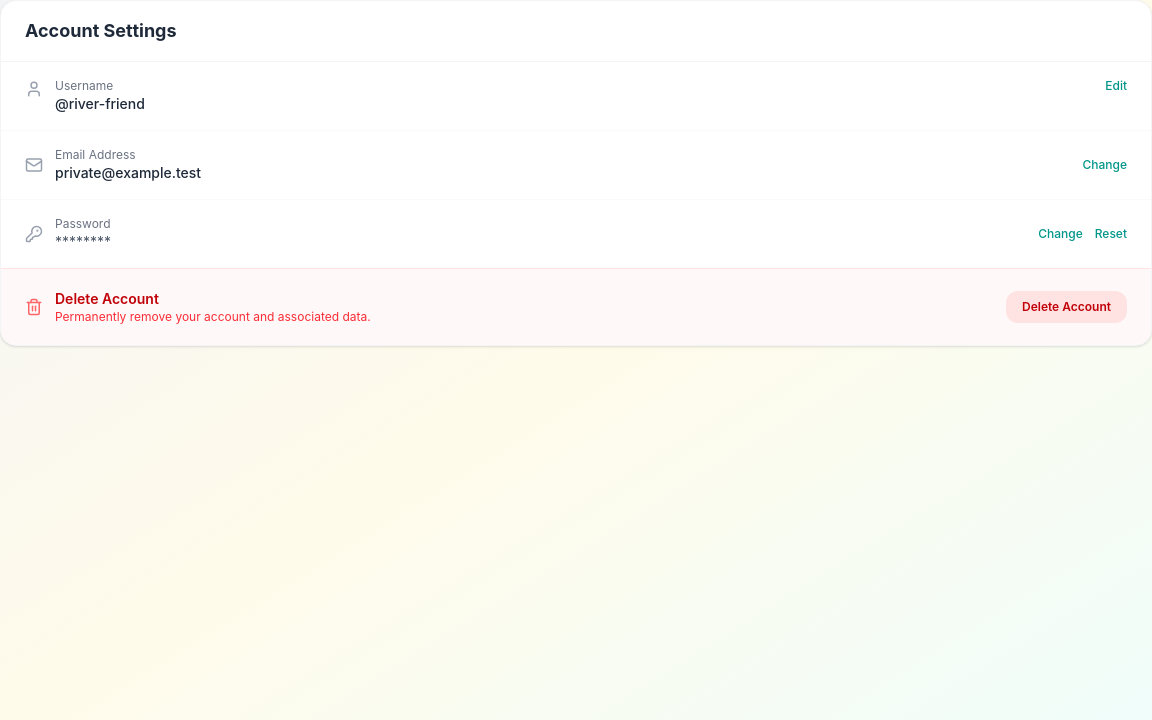
Test case: username-only account settings › edits and displays only the username, including existing accounts with a separate name
This screenshot has width=1152, height=720.
Expected: the text "@river-friend" is shown, [55,94,145,114]
Click the button "Edit". click: (1116, 86)
box: [1105,78,1127,94]
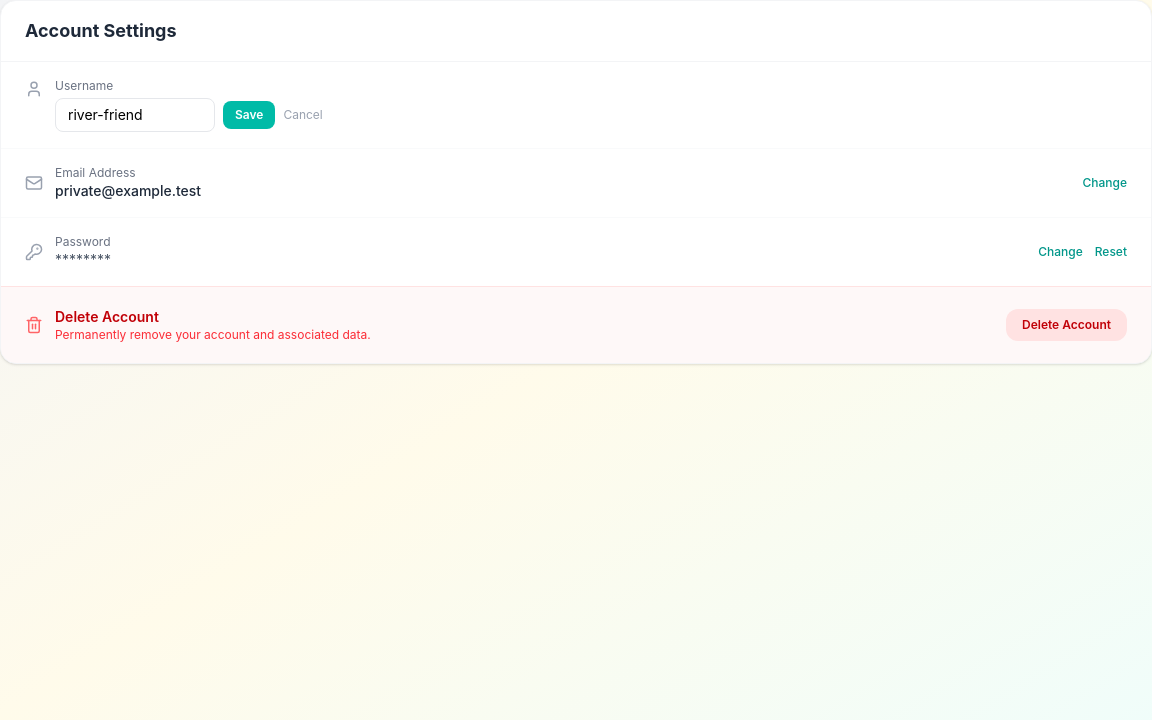
Expected: the number of fields is 1
Clear the field named "Username". click: (135, 115)
box: [55,98,215,132]
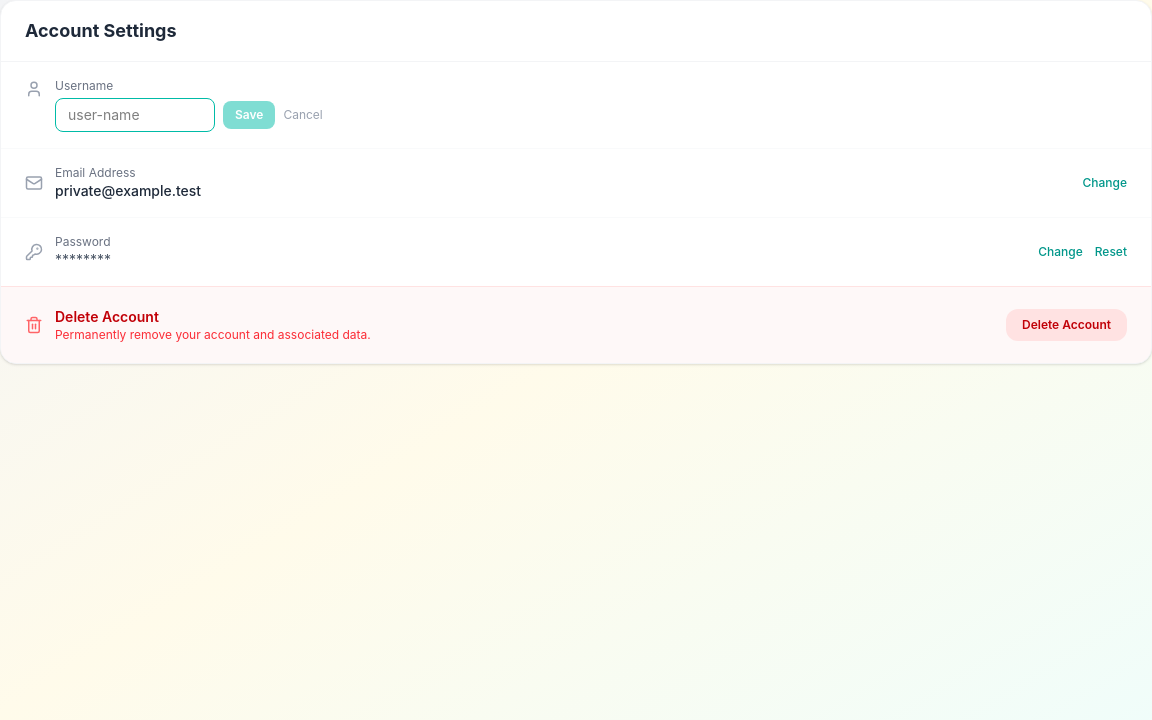
Expected: the button "Save" is disabled, [223,101,275,129]
Type "new-username" into the field named "Username". click: (135, 115)
box: [55,98,215,132]
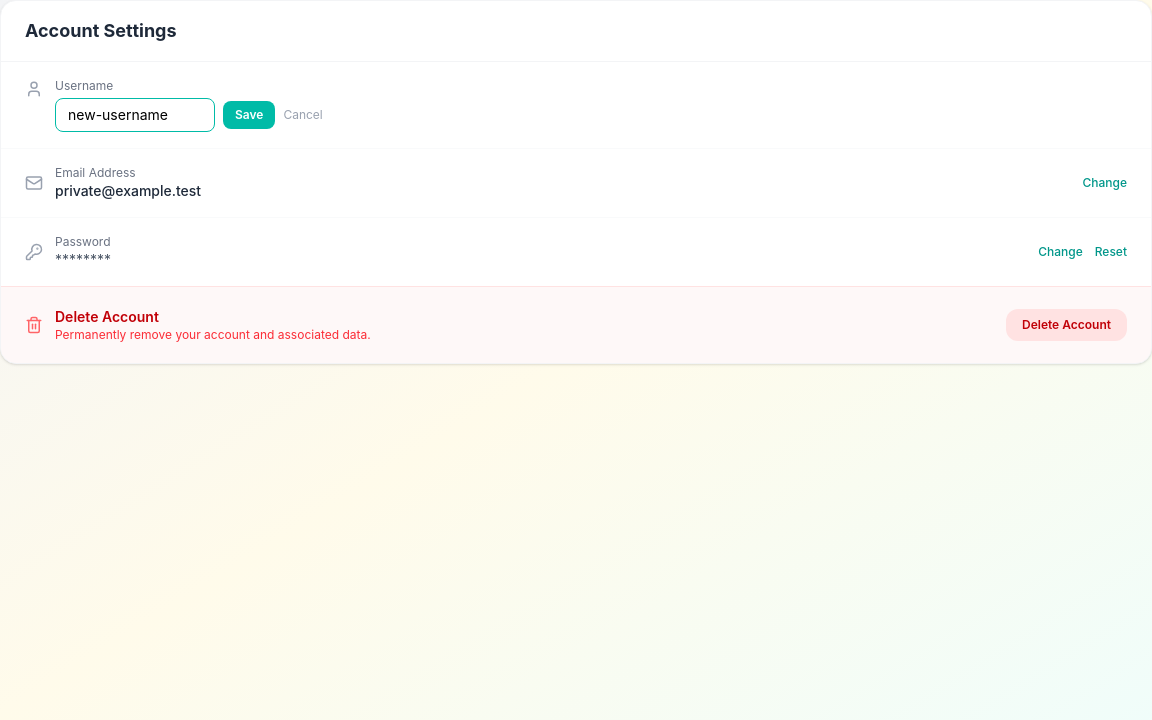
Click the button "Save". click: (249, 115)
box: [223,101,275,129]
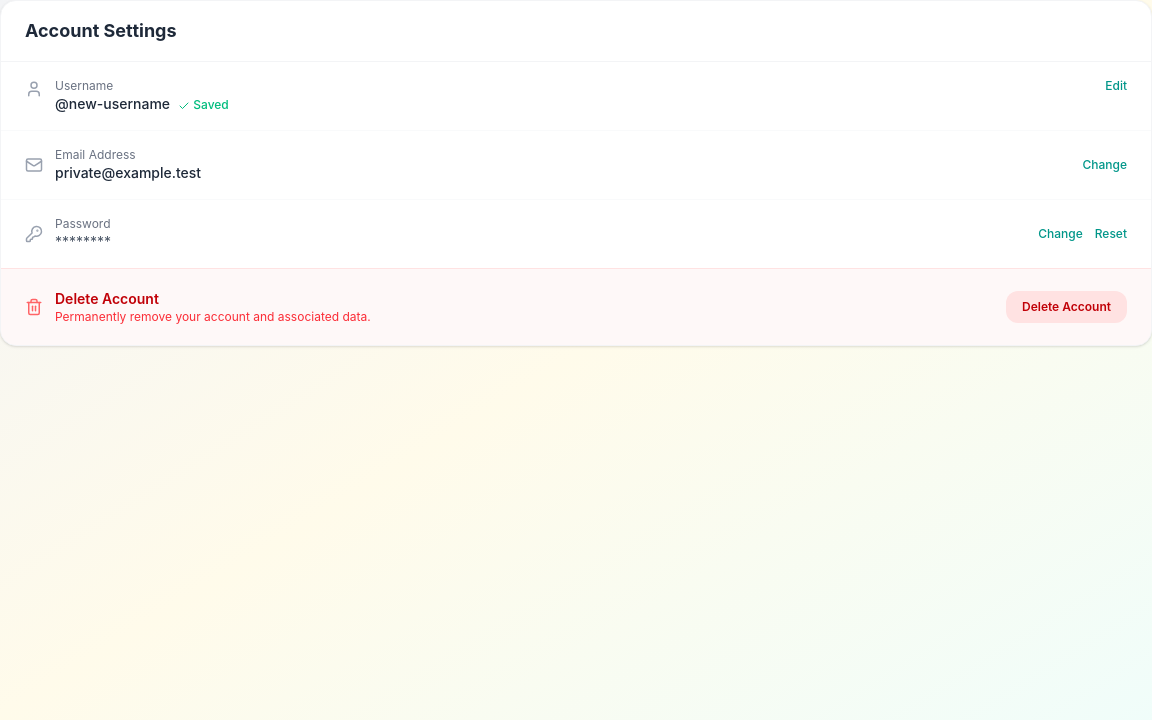
Expected: the text "@new-username" is shown, [55,95,170,112]
